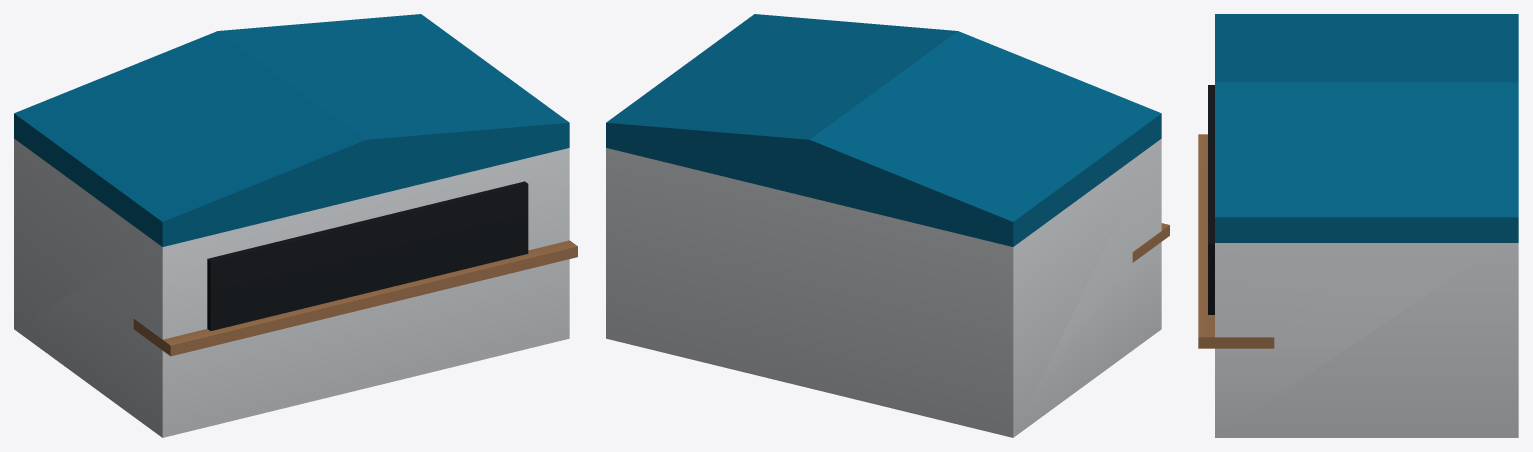
Rendered from food-stall.glb.
3 views of the same model, side by side, from view 1: azimuth 30°, elevation 25°; view 2: azimuth 150°, elevation 25°; view 3: azimuth 270°, elevation 25° (orthographic). The views are drawn at different scales.
Visible parts, largest first — view 1: food-stall; view 2: food-stall; view 3: food-stall.
Boxes of the visible parts, left/top/right/bottom form: food-stall: left=14, top=14, right=577, bottom=437; food-stall: left=606, top=14, right=1169, bottom=437; food-stall: left=1198, top=14, right=1518, bottom=437.
Bounding box in the file's own units: 6 × 3.5 × 4.
